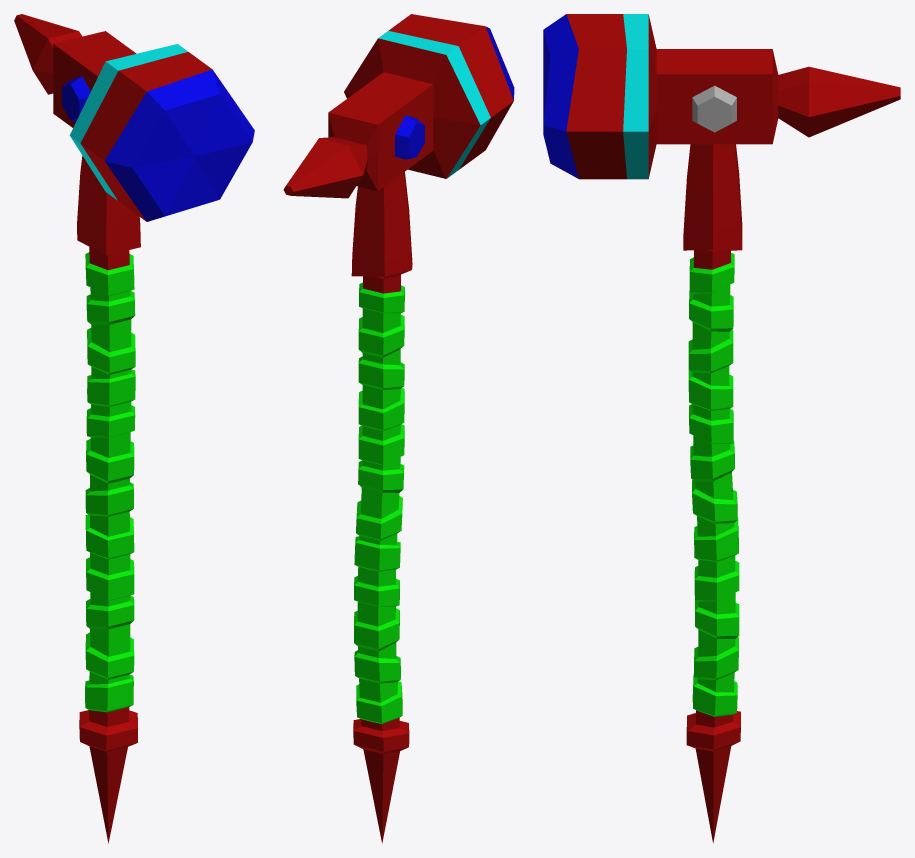
File: Mace_Legendary_Sloth.fbx
3 views of the same model, side by side, from view 1: azimuth 30°, elevation 25°; view 2: azimuth 150°, elevation 25°; view 3: azimuth 270°, elevation 25° (orthographic). The views are drawn at different scales.
Parts seen in each view (by area): view 1: SM_Wep_Hammer_Small_01; view 2: SM_Wep_Hammer_Small_01; view 3: SM_Wep_Hammer_Small_01.
Boxes of the visible parts, x1,y1,x2,y2 form: SM_Wep_Hammer_Small_01: (14,14,254,843); SM_Wep_Hammer_Small_01: (283,14,514,843); SM_Wep_Hammer_Small_01: (543,14,900,843).
Size of the model in its own units: 0.1988 by 1.08 by 0.428.
